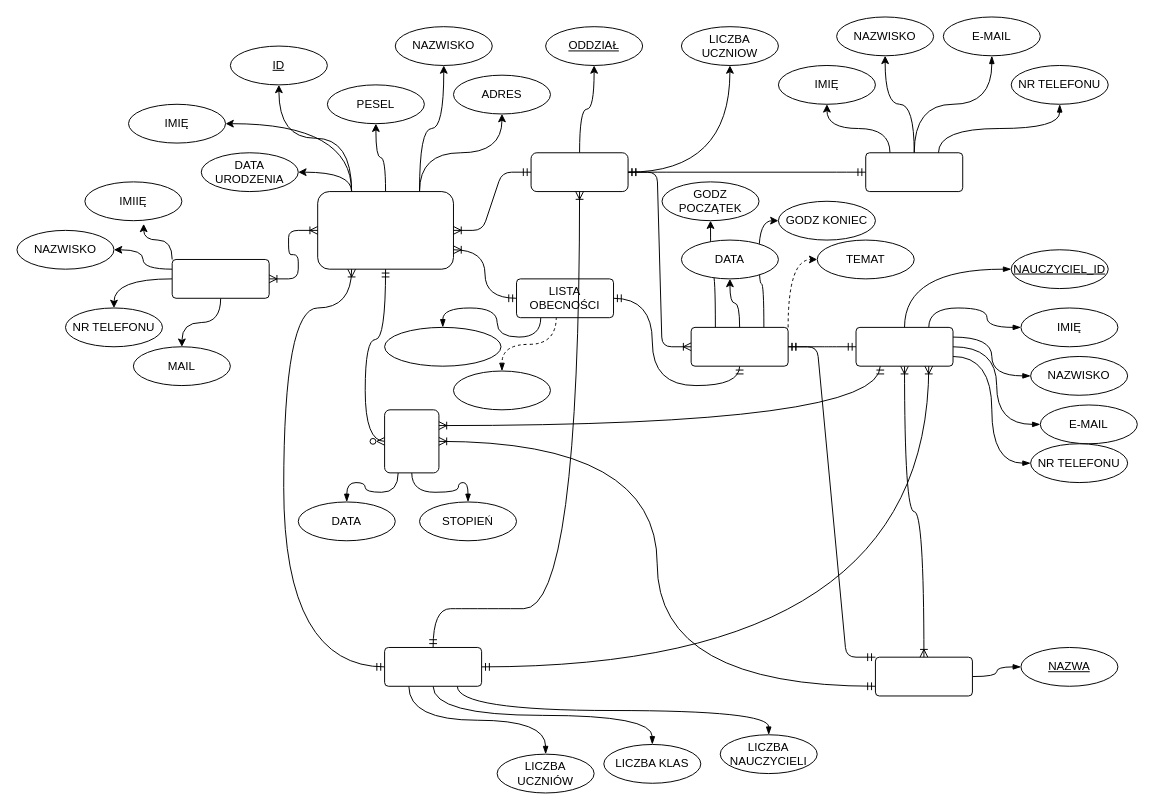
Some shapes in this 1154 by 810 pixel diagram are drawn without their labels. The shapes that lost their labels are listed below. From the top down, each one's box as (x1, y1, x2, y2) in pixels, then its label:
(530, 152, 628, 192): KLASA
(865, 152, 963, 192): WYCHOWAWCA
(317, 191, 453, 269): UCZEŃ
(171, 259, 269, 298): RODZIC
(384, 326, 501, 366): OBECNOŚĆ
(690, 326, 788, 366): LEKCJA
(855, 326, 953, 366): NAUCZYCIEL
(453, 370, 550, 410): SPÓŹNIENIE
(384, 409, 439, 473): OCENA
(384, 647, 482, 686): SZKOŁA
(874, 656, 972, 696): PRZEDMIOT
